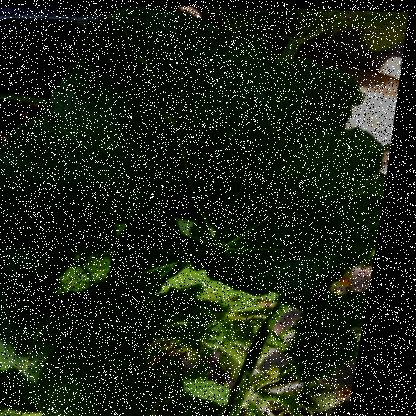Normal: (5, 65, 376, 246)
